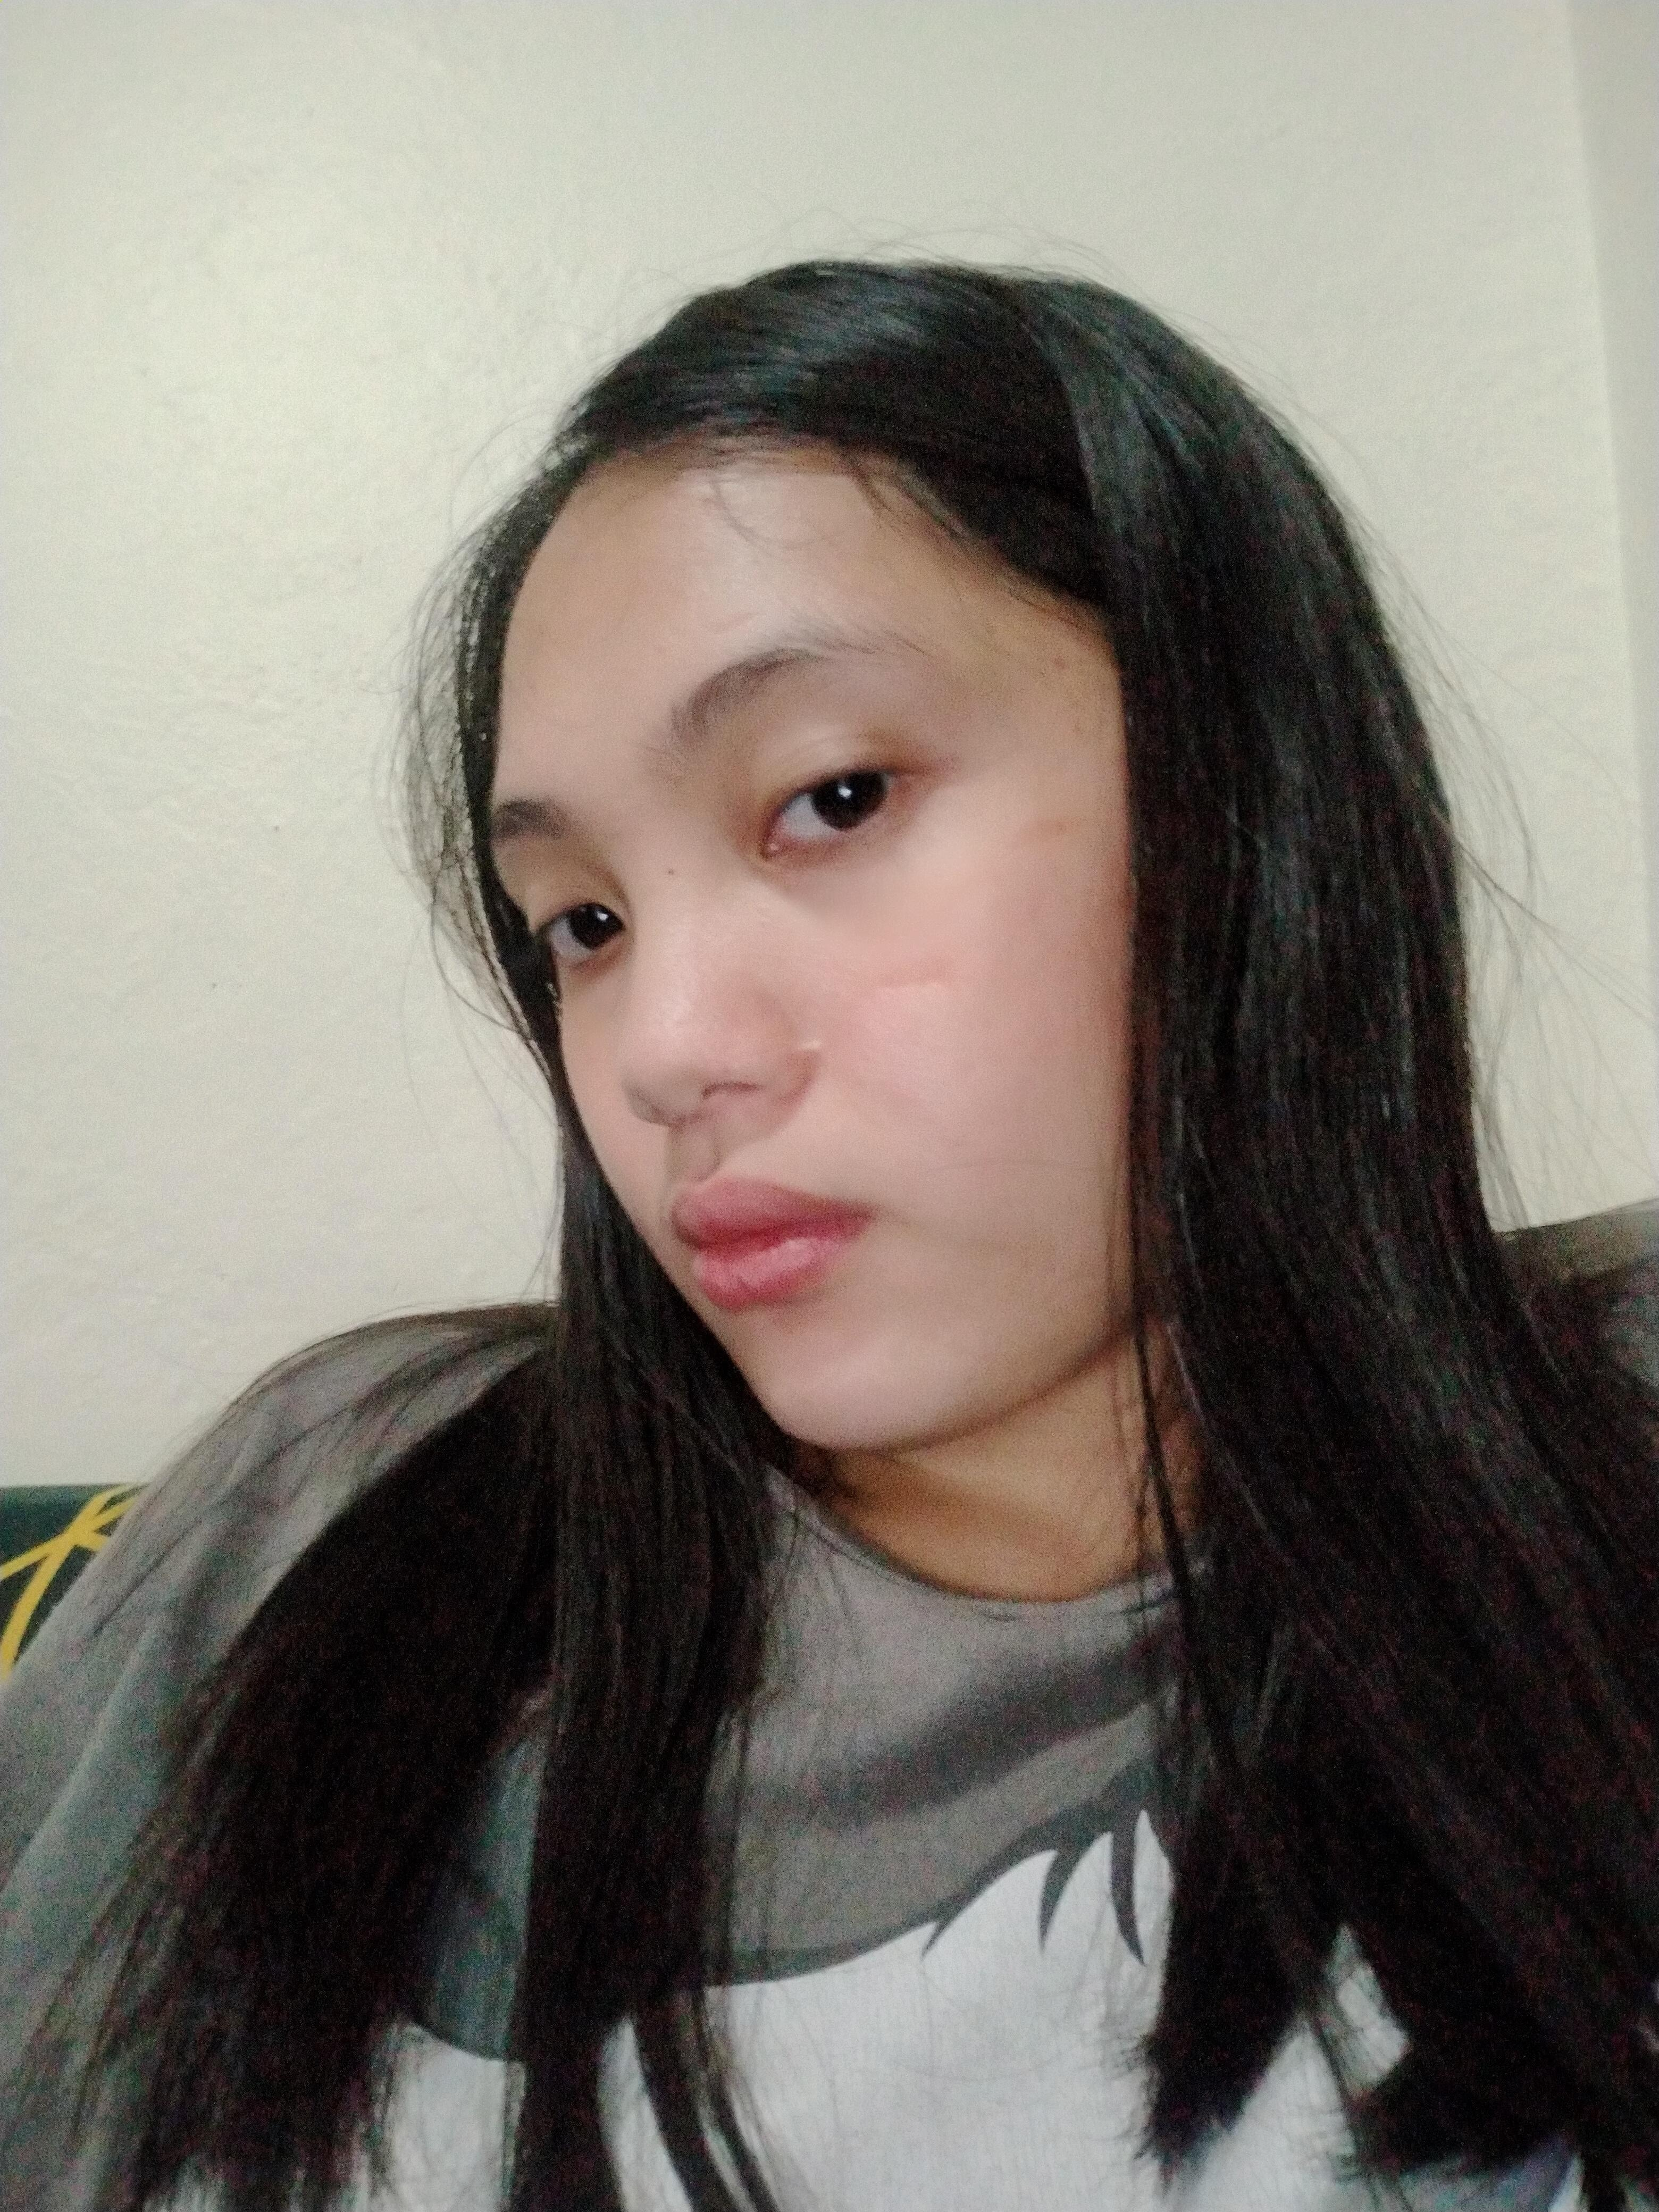Acne: (999, 805, 1091, 846), (1065, 711, 1114, 735), (1046, 648, 1075, 674)
